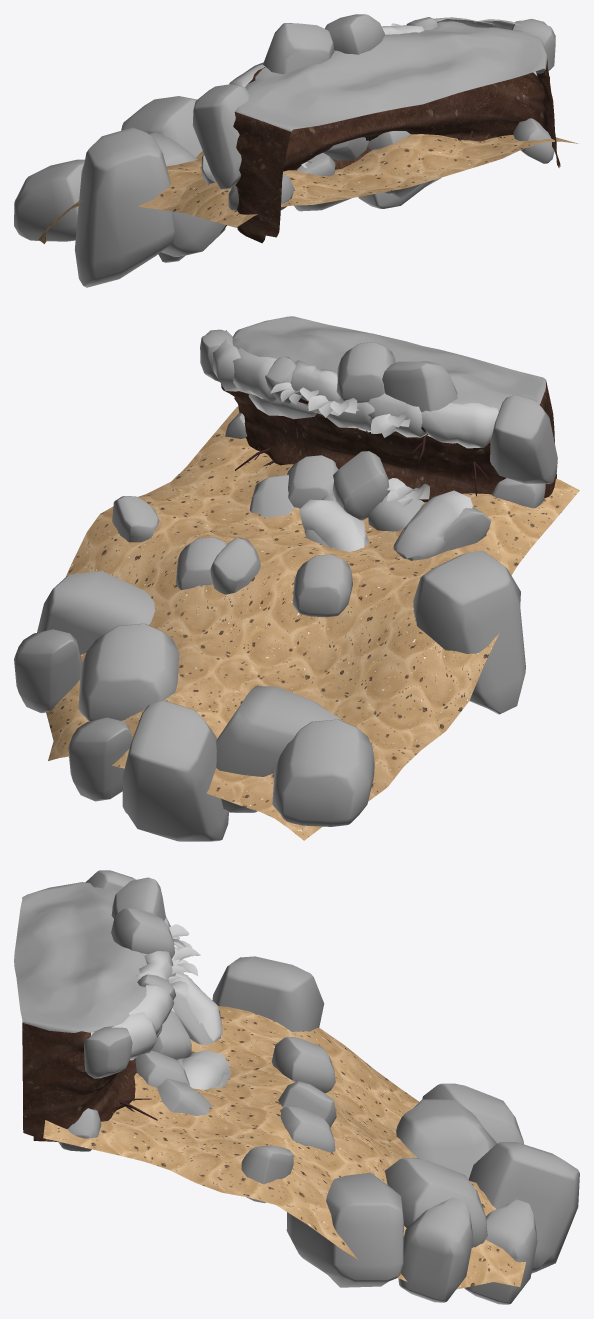
Rendered from Sand2.fbx.
The picture shows the model from 3 angles, top to bottom: view 1: azimuth 30°, elevation 25°; view 2: azimuth 150°, elevation 25°; view 3: azimuth 270°, elevation 25°; orthographic projection.
Visible parts, largest first — view 1: polySurface4831; view 2: polySurface4831; view 3: polySurface4831.
Boxes of the visible parts, x1,y1,x2,y2 form: polySurface4831: (14,14,578,287); polySurface4831: (14,316,579,841); polySurface4831: (14,870,579,1304).
Bounding box in the file's own units: 672 × 555 × 765.
